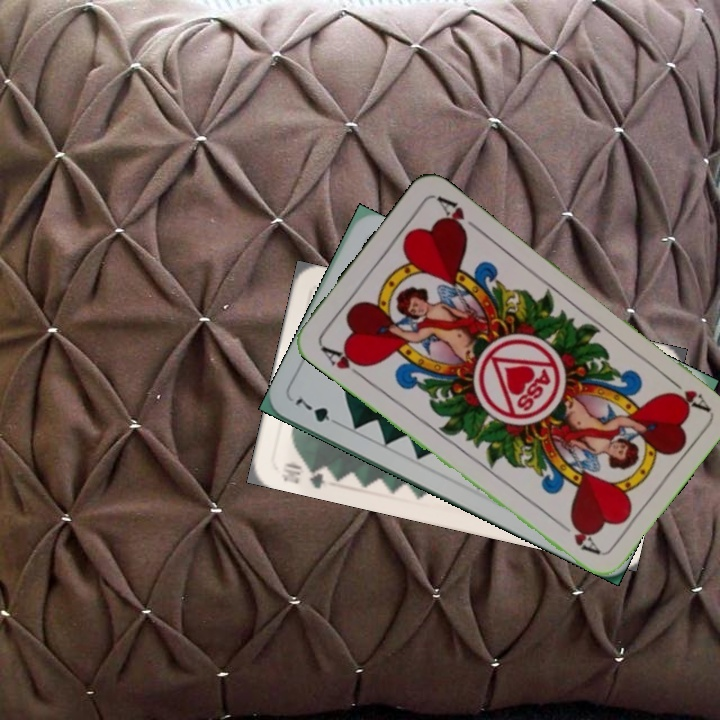G10: (277, 458, 329, 491)
G7: (290, 392, 345, 428)
HA: (661, 371, 712, 414), (316, 341, 369, 382)
